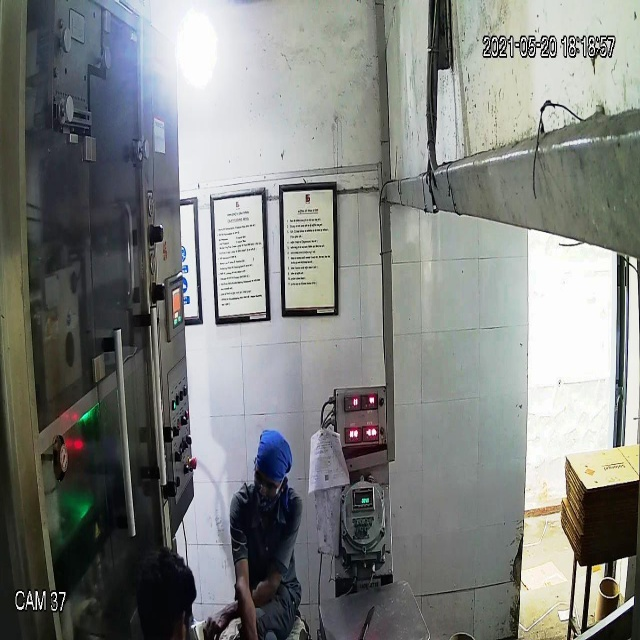Gafas: (248, 464, 288, 499)
